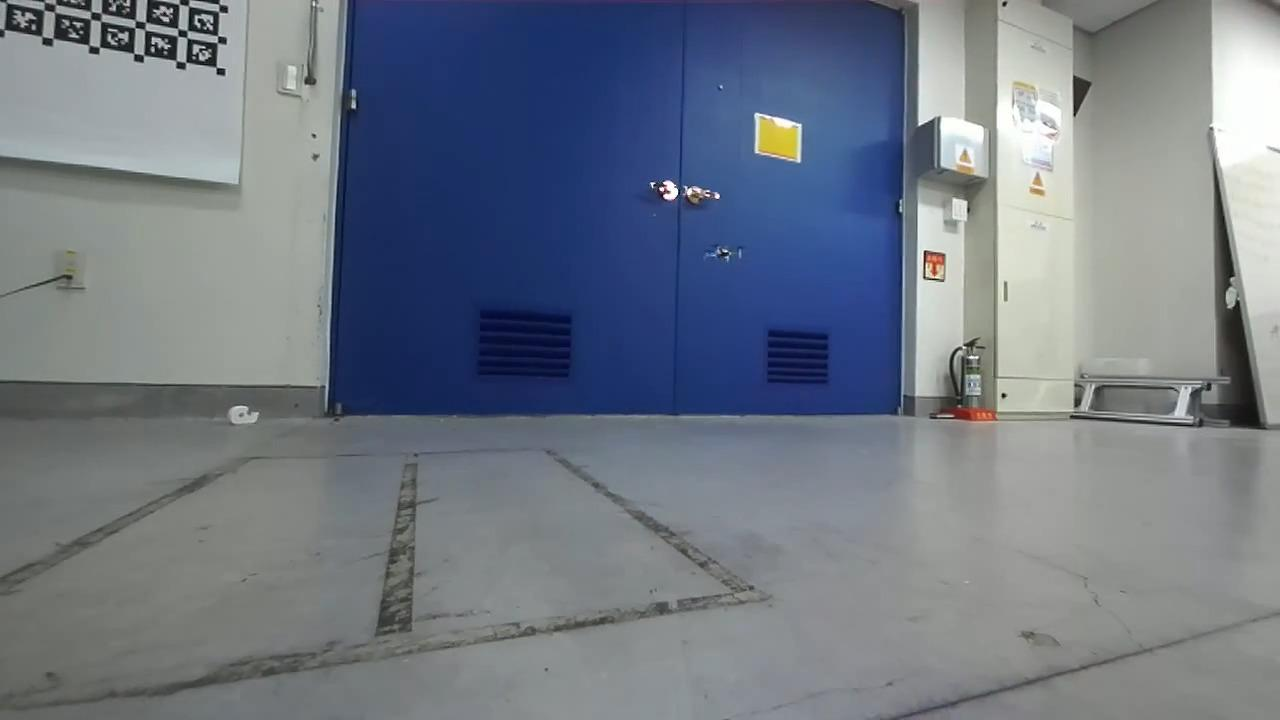crazyflie: (694, 236, 749, 267)
